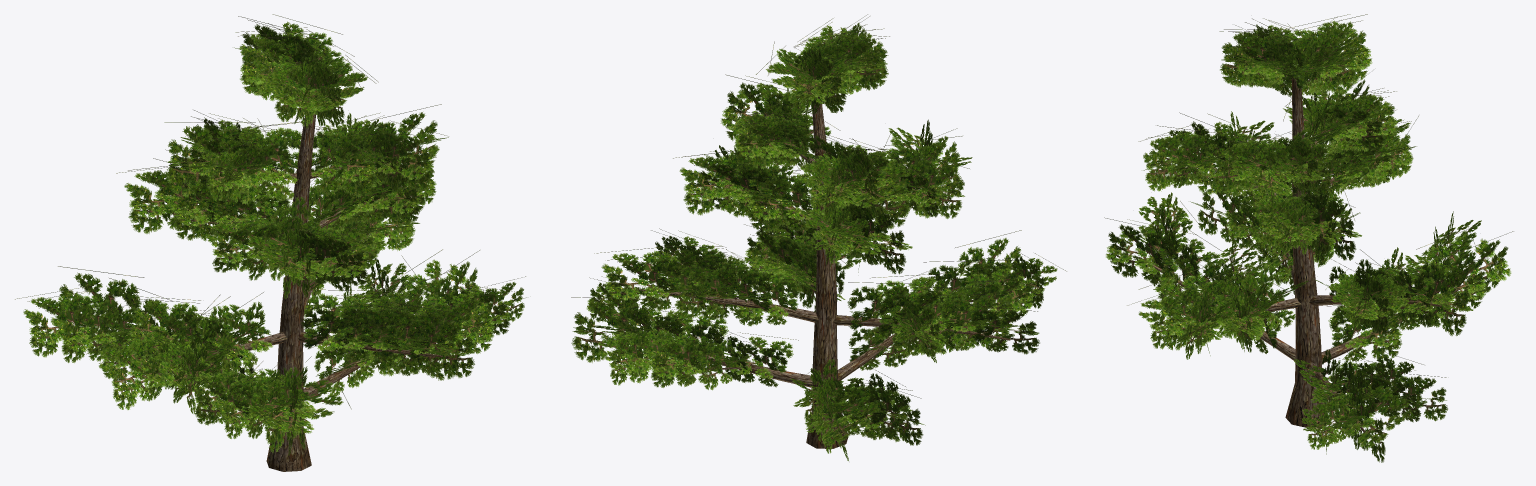
The model's file is pine_small_lod0.glb.
3 views of the same model, side by side, from view 1: azimuth 30°, elevation 25°; view 2: azimuth 150°, elevation 25°; view 3: azimuth 270°, elevation 25° (orthographic). The views are drawn at different scales.
Visible parts, largest first — view 1: pine_small_lod0; view 2: pine_small_lod0; view 3: pine_small_lod0.
Boxes of the visible parts, <box> form: pine_small_lod0: <box>15,14,526,471</box>; pine_small_lod0: <box>571,14,1066,460</box>; pine_small_lod0: <box>1104,14,1513,462</box>.
Bounding box in the file's own units: 7.95 × 7.1 × 6.89.
2 materials, 2 textured.
